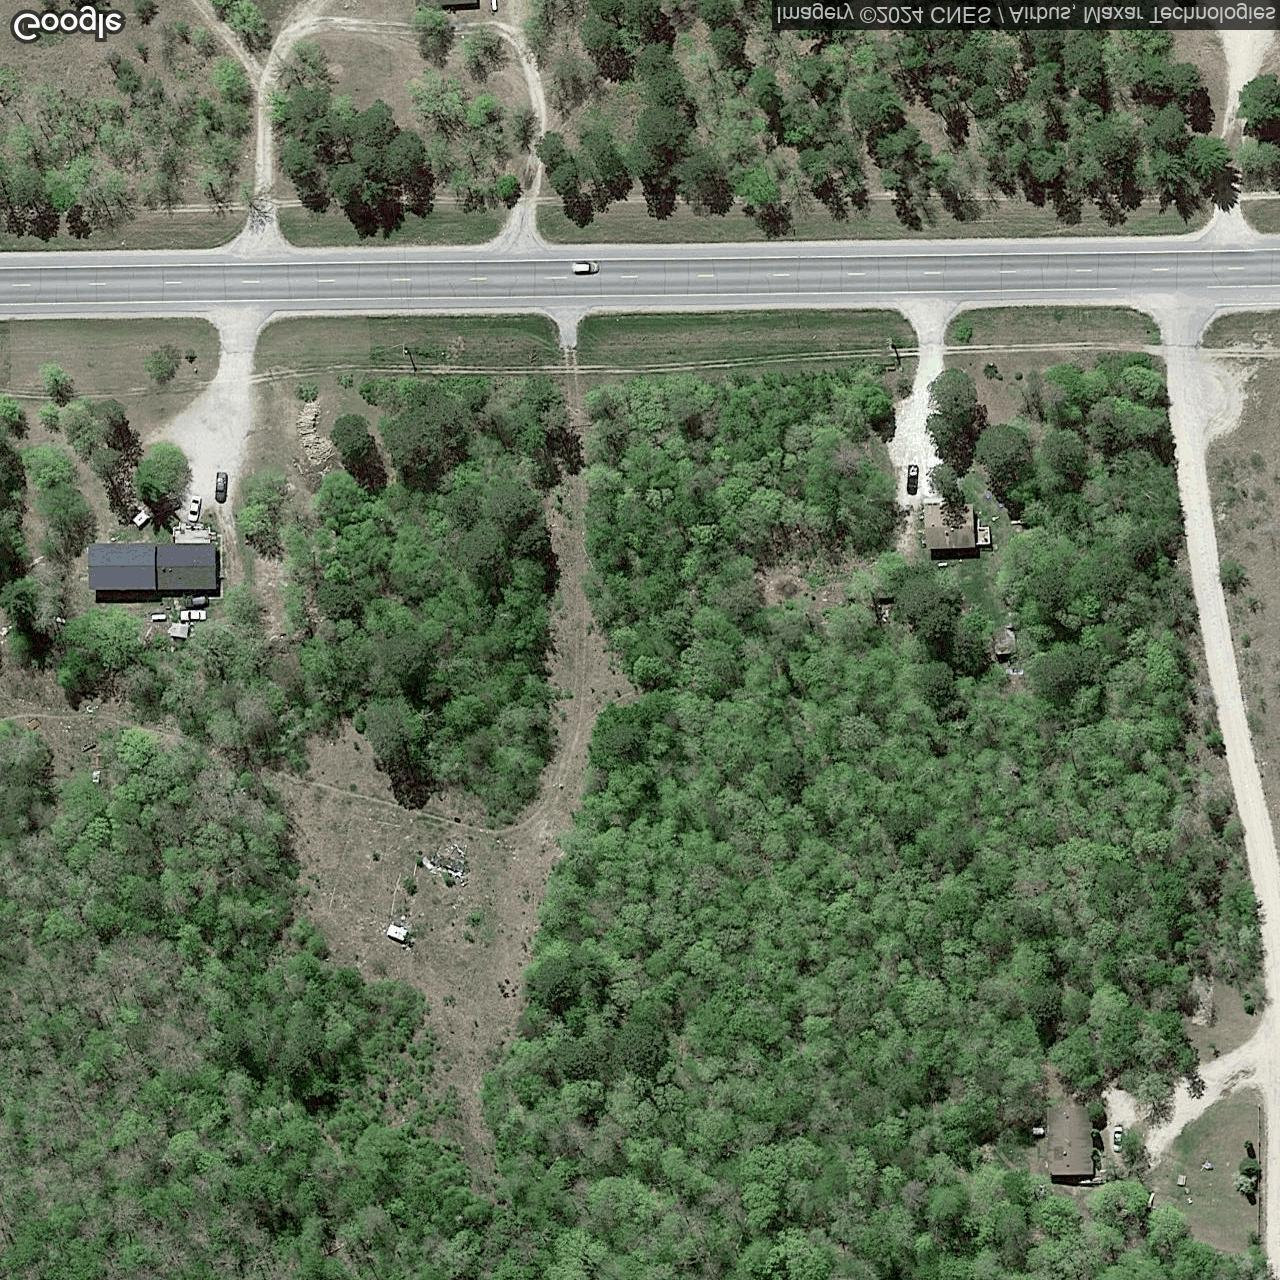House: (86, 542, 219, 593), (1044, 1105, 1095, 1177), (922, 502, 976, 550), (437, 0, 478, 6)
Propane: (150, 613, 169, 624), (490, 0, 498, 14), (937, 561, 948, 568)
